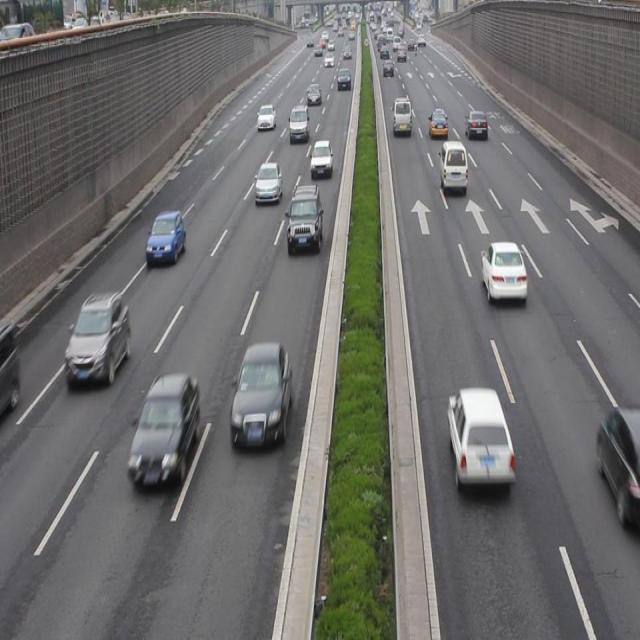car: (127, 371, 199, 486), (229, 340, 292, 449), (448, 387, 514, 485), (64, 290, 129, 386), (595, 408, 640, 527), (480, 240, 526, 303), (286, 183, 322, 252), (146, 208, 185, 264), (254, 161, 282, 204), (309, 138, 333, 180), (464, 109, 486, 142), (429, 108, 447, 140), (257, 104, 276, 131)
truck: (440, 140, 468, 192), (288, 104, 310, 142), (392, 96, 412, 135)
